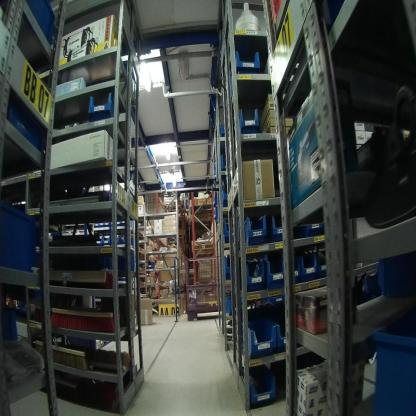stillage: (182, 252, 233, 319)
